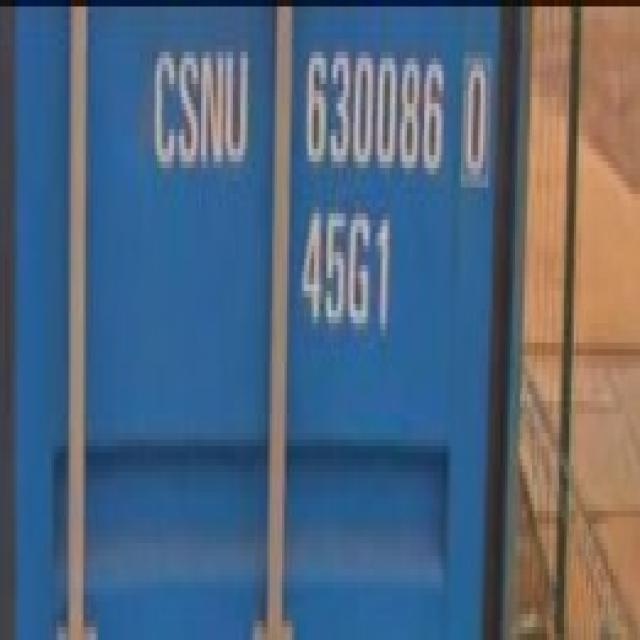dv: (459, 54, 490, 190)
owner: (148, 37, 253, 184)
serial: (299, 40, 446, 188)
size: (298, 198, 395, 333)
